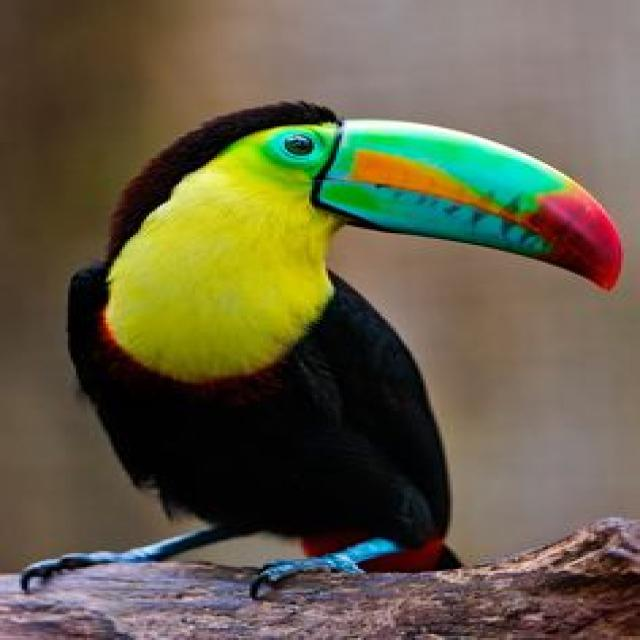Herbivorous: (73, 101, 624, 575)
